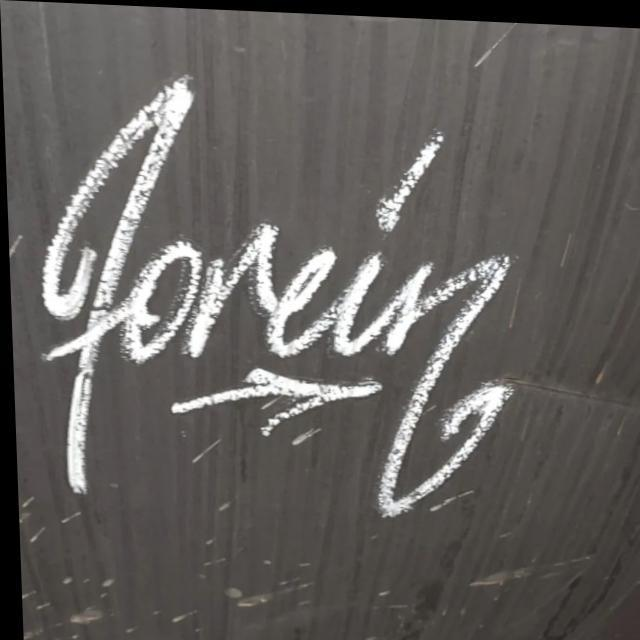nonspitting: (42, 75, 515, 521)
